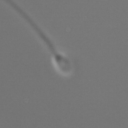normal: (6, 2, 57, 52)
